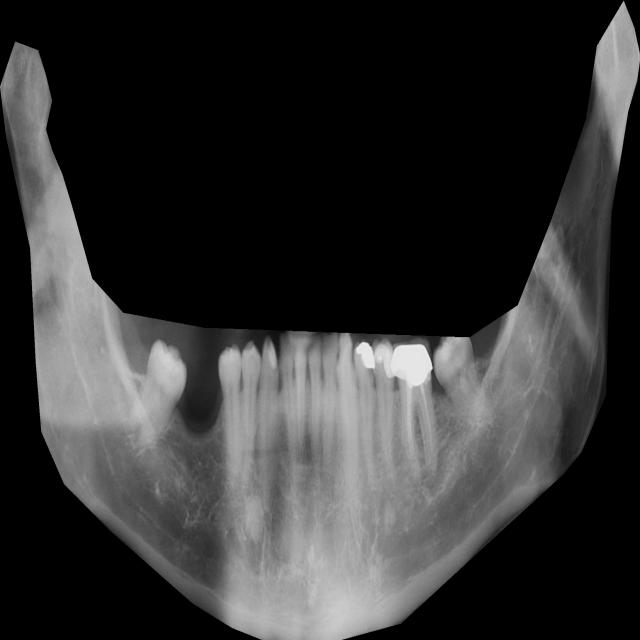mandibula: (0, 1, 640, 640)
